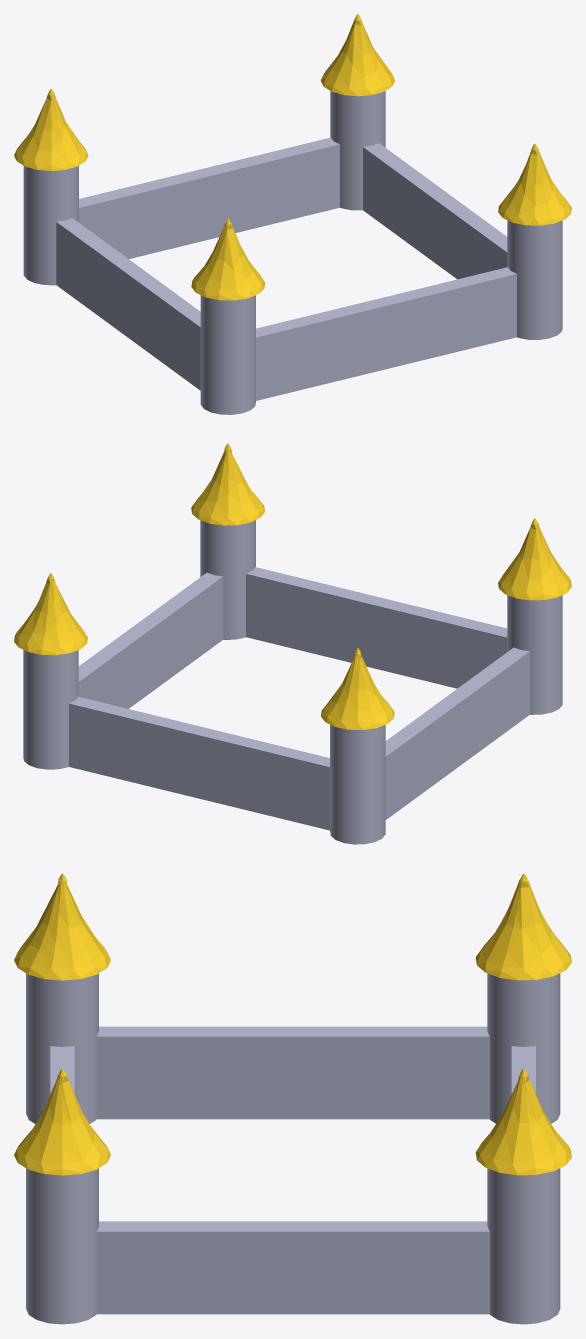
The model's file is Tower.fbx.
3 views of the same model, one above another, from view 1: azimuth 30°, elevation 25°; view 2: azimuth 150°, elevation 25°; view 3: azimuth 270°, elevation 25° (orthographic). The views are drawn at different scales.
Parts seen in each view (by area): view 1: polySurface1; view 2: polySurface1; view 3: polySurface1.
Part boxes in pixels (x1,y1,x2,y2): polySurface1: (14,14,571,414); polySurface1: (14,443,571,844); polySurface1: (14,873,571,1324).
Bounding box in the file's own units: 23 × 10.92 × 22.98.
Materials: 1 (1 with a texture image).
